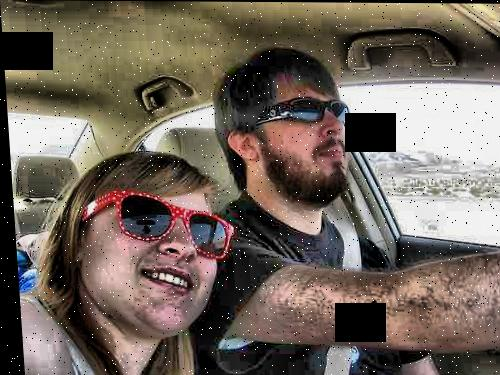seatbelt: (290, 184, 378, 371)
